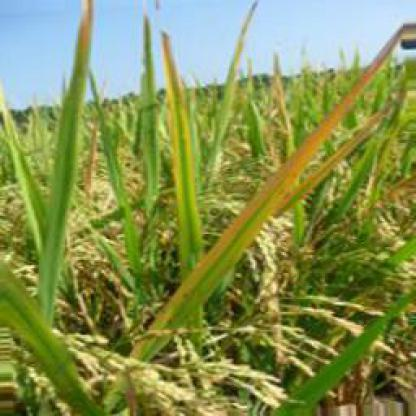Tungro: (143, 27, 408, 349), (156, 30, 206, 240), (60, 3, 102, 71)
